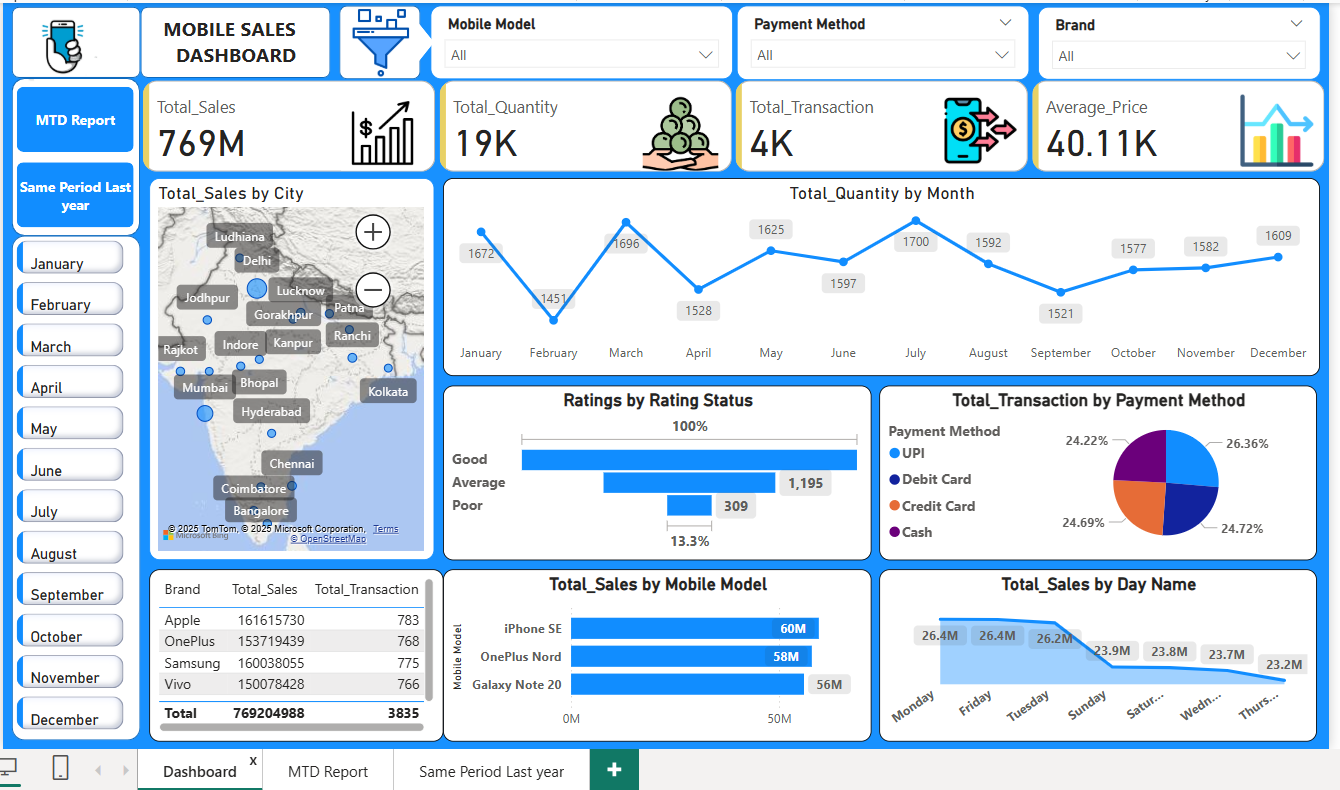

The dashboard page shown, as its layout file describes it:
{"tool":"powerbi","page":{"name":"Dashboard","canvas":[1280,720],"ordinal":0},"visuals":[{"type":"shape","box":[8.8,72.5,123.8,152.5],"z":0},{"type":"shape","box":[8.4,3.6,124.3,68.8],"z":1000},{"type":"image","box":[19.3,3.6,77.2,77.2],"z":2000},{"type":"shape","box":[8.4,224.4,124.3,487.4],"z":3000},{"type":"advancedSlicerVisual","fields":{"Values":["Custom_Calendar.Date.Variation.Date Hierarchy.Month"]},"box":[8.4,224.4,113.4,487.4],"z":4000},{"type":"cardVisual","fields":{"Data":["Mobile_Sales_Data.Total_Sales","Mobile_Sales_Data.Total_Quantity","Mobile_Sales_Data.Total_Transaction","Mobile_Sales_Data.Average_Price"]},"box":[130,70,1150,98.8],"z":5000},{"type":"slicer","fields":{"Values":["Mobile_Sales_Data.Mobile Model"]},"box":[412.6,2.4,292,71.2],"z":6000},{"type":"slicer","fields":{"Values":["Mobile_Sales_Data.Payment Method"]},"box":[708.2,2.4,282.3,72.4],"z":7000},{"type":"slicer","fields":{"Values":["Mobile_Sales_Data.Brand"]},"box":[998.8,3.8,272.5,70],"z":8000},{"type":"shape","box":[324.5,2.4,78.4,71.2],"z":9000},{"type":"shape","box":[382.4,16.9,33.8,42.2],"z":10000},{"type":"image","box":[277.5,0,173.7,77.2],"z":11000},{"type":"shape","box":[132.7,3.6,183.4,68.8],"z":12000},{"type":"textbox","box":[149.6,7.2,150.8,62.7],"z":13000},{"type":"map","fields":{"Category":["Mobile_Sales_Data.City"],"Size":["Mobile_Sales_Data.Total_Sales"]},"box":[141.2,168.8,275,368.8],"z":14000},{"type":"lineChart","fields":{"Category":["Custom_Calendar.Date.Variation.Date Hierarchy.Month"],"Y":["Mobile_Sales_Data.Total_Quantity"]},"box":[425,168.8,846.2,191.2],"z":15000},{"type":"funnel","title":" Ratings by Rating Status","fields":{"Y":["CountNonNull(Mobile_Sales_Data.Customer Ratings)"],"Category":["Mobile_Sales_Data.Rating Status"]},"box":[425,368.8,413.8,168.8],"z":16000},{"type":"pieChart","fields":{"Y":["Mobile_Sales_Data.Total_Transaction"],"Category":["Mobile_Sales_Data.Payment Method"]},"box":[846.2,368.8,422.5,168.8],"z":17000},{"type":"clusteredBarChart","fields":{"Y":["Mobile_Sales_Data.Total_Sales"],"Category":["Mobile_Sales_Data.Mobile Model"]},"box":[425,546.2,413.8,166.2],"z":18000},{"type":"areaChart","fields":{"Y":["Mobile_Sales_Data.Total_Sales"],"Category":["Custom_Calendar.Day Name"]},"box":[846.2,546.2,422.5,166.2],"z":19000},{"type":"tableEx","fields":{"Values":["Mobile_Sales_Data.Brand","Mobile_Sales_Data.Total_Sales","Mobile_Sales_Data.Total_Transaction"]},"box":[141.2,546.2,283.8,166.2],"z":20000},{"type":"pageNavigator","box":[13.8,81.2,113.8,136.2],"z":21000}]}

Visuals, with their boxes on the page's 1280x720 design canvas (x1, y1, x2, y2). These are canvas units, not pixel positions in the 1340x790 screenshot, which may show the page scaled, cropped or inside an application window:
shape: Rect(9, 72, 133, 225)
shape: Rect(8, 4, 133, 72)
image: Rect(19, 4, 96, 81)
shape: Rect(8, 224, 133, 712)
advancedSlicerVisual - Custom_Calendar.Date.Variation.Date Hierarchy.Month: Rect(8, 224, 122, 712)
cardVisual - Mobile_Sales_Data.Total_Sales x Mobile_Sales_Data.Total_Quantity: Rect(130, 70, 1280, 169)
slicer - Mobile_Sales_Data.Mobile Model: Rect(413, 2, 705, 74)
slicer - Mobile_Sales_Data.Payment Method: Rect(708, 2, 990, 75)
slicer - Mobile_Sales_Data.Brand: Rect(999, 4, 1271, 74)
shape: Rect(324, 2, 403, 74)
shape: Rect(382, 17, 416, 59)
image: Rect(278, 0, 451, 77)
shape: Rect(133, 4, 316, 72)
textbox: Rect(150, 7, 300, 70)
map - Mobile_Sales_Data.City x Mobile_Sales_Data.Total_Sales: Rect(141, 169, 416, 538)
lineChart - Custom_Calendar.Date.Variation.Date Hierarchy.Month x Mobile_Sales_Data.Total_Quantity: Rect(425, 169, 1271, 360)
" Ratings by Rating Status" funnel: Rect(425, 369, 839, 538)
pieChart - Mobile_Sales_Data.Total_Transaction x Mobile_Sales_Data.Payment Method: Rect(846, 369, 1269, 538)
clusteredBarChart - Mobile_Sales_Data.Total_Sales x Mobile_Sales_Data.Mobile Model: Rect(425, 546, 839, 712)
areaChart - Mobile_Sales_Data.Total_Sales x Custom_Calendar.Day Name: Rect(846, 546, 1269, 712)
tableEx - Mobile_Sales_Data.Brand x Mobile_Sales_Data.Total_Sales: Rect(141, 546, 425, 712)
pageNavigator: Rect(14, 81, 128, 217)
